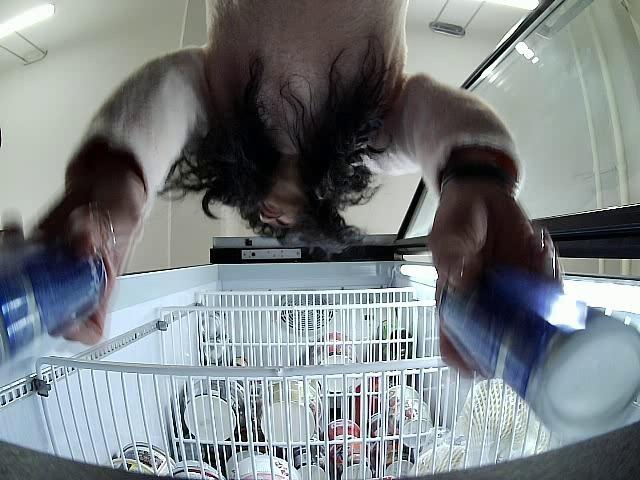16_hot6: (438, 257, 640, 440), (0, 236, 109, 359)
